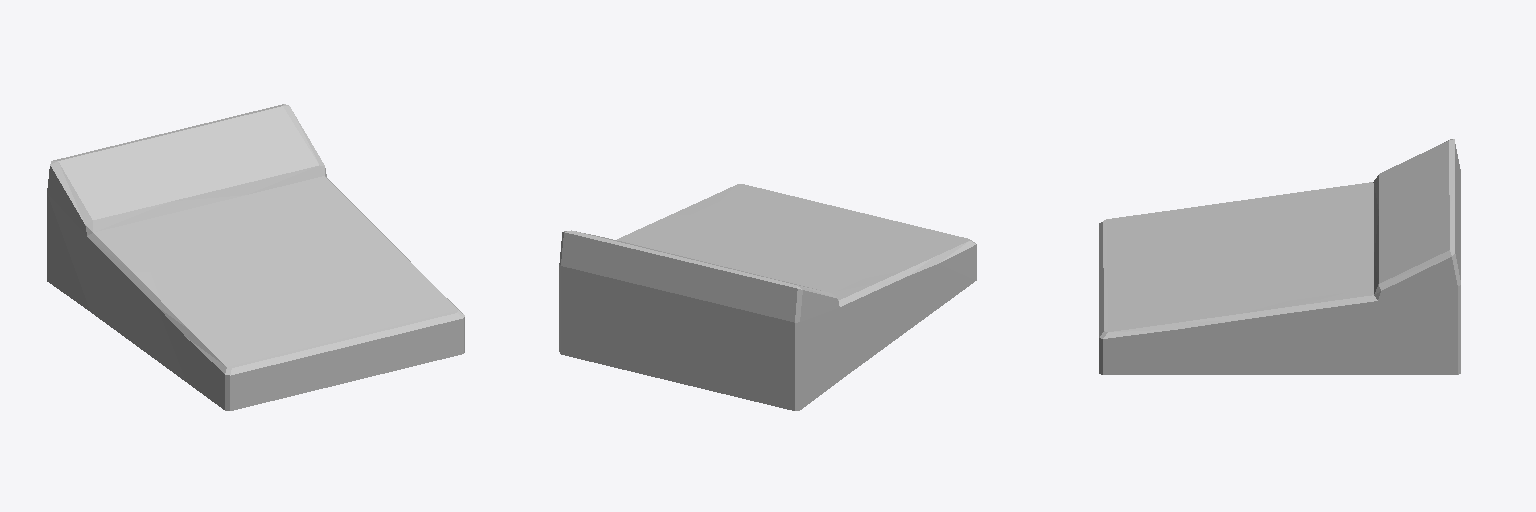
The model's file is SM_Calculadora.obj.
3 views of the same model, side by side, from view 1: azimuth 30°, elevation 25°; view 2: azimuth 150°, elevation 25°; view 3: azimuth 270°, elevation 25° (orthographic).
Visible parts, largest first — view 1: Calculadora; view 2: Calculadora; view 3: Calculadora.
Part boxes in pixels (x1,y1,x2,y2): Calculadora: (47,104,464,410); Calculadora: (559,184,976,410); Calculadora: (1099,139,1460,374).
Size of the model in its own units: 1.05 by 0.5029 by 1.37.